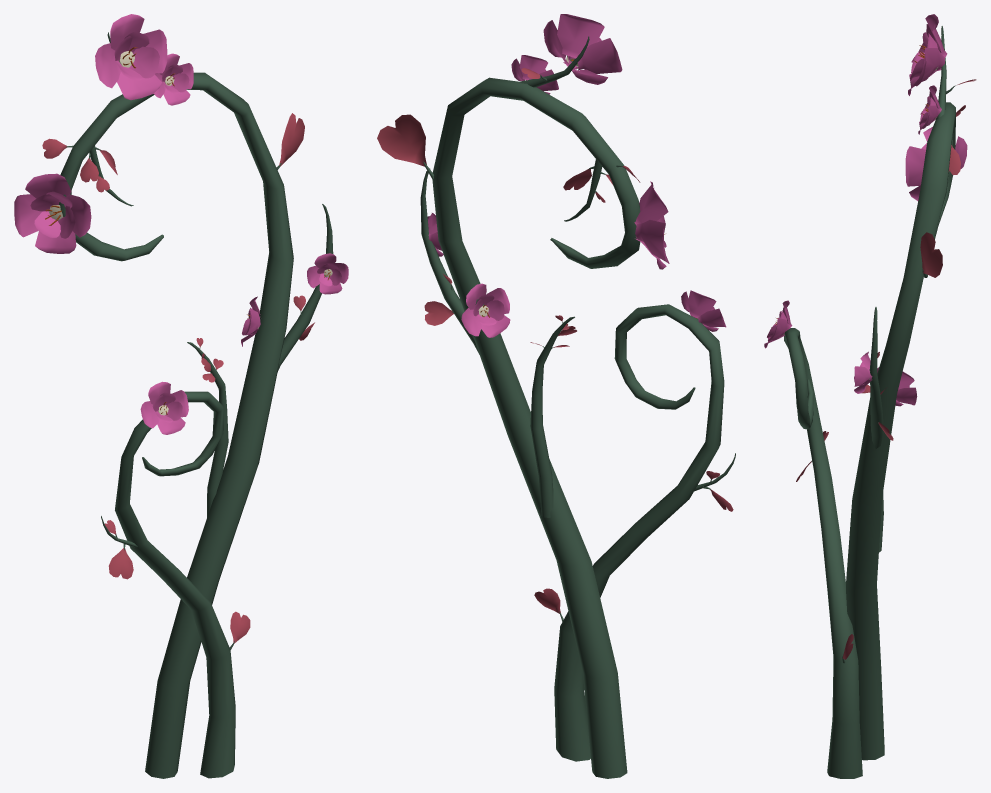
Rendered from PL_magicflowerStage2_01.fbx.
3 renders of one model, left to right at view 1: azimuth 30°, elevation 25°; view 2: azimuth 150°, elevation 25°; view 3: azimuth 270°, elevation 25°, orthographic. The views are drawn at different scales.
Visible parts, largest first — view 1: PL_magicflowerStage2_01; view 2: PL_magicflowerStage2_01; view 3: PL_magicflowerStage2_01.
Boxes of the visible parts, x1,y1,x2,y2 form: PL_magicflowerStage2_01: [14, 14, 348, 778]; PL_magicflowerStage2_01: [377, 14, 735, 778]; PL_magicflowerStage2_01: [764, 14, 976, 778].
Size of the model in its own units: 19.78 by 49.61 by 12.99.
2 materials, 2 textured.
